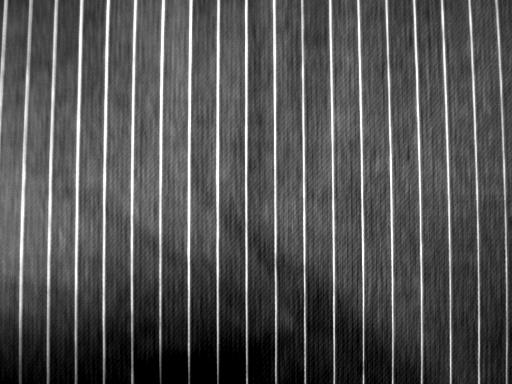fabric_perfect: (0, 4, 506, 384)
